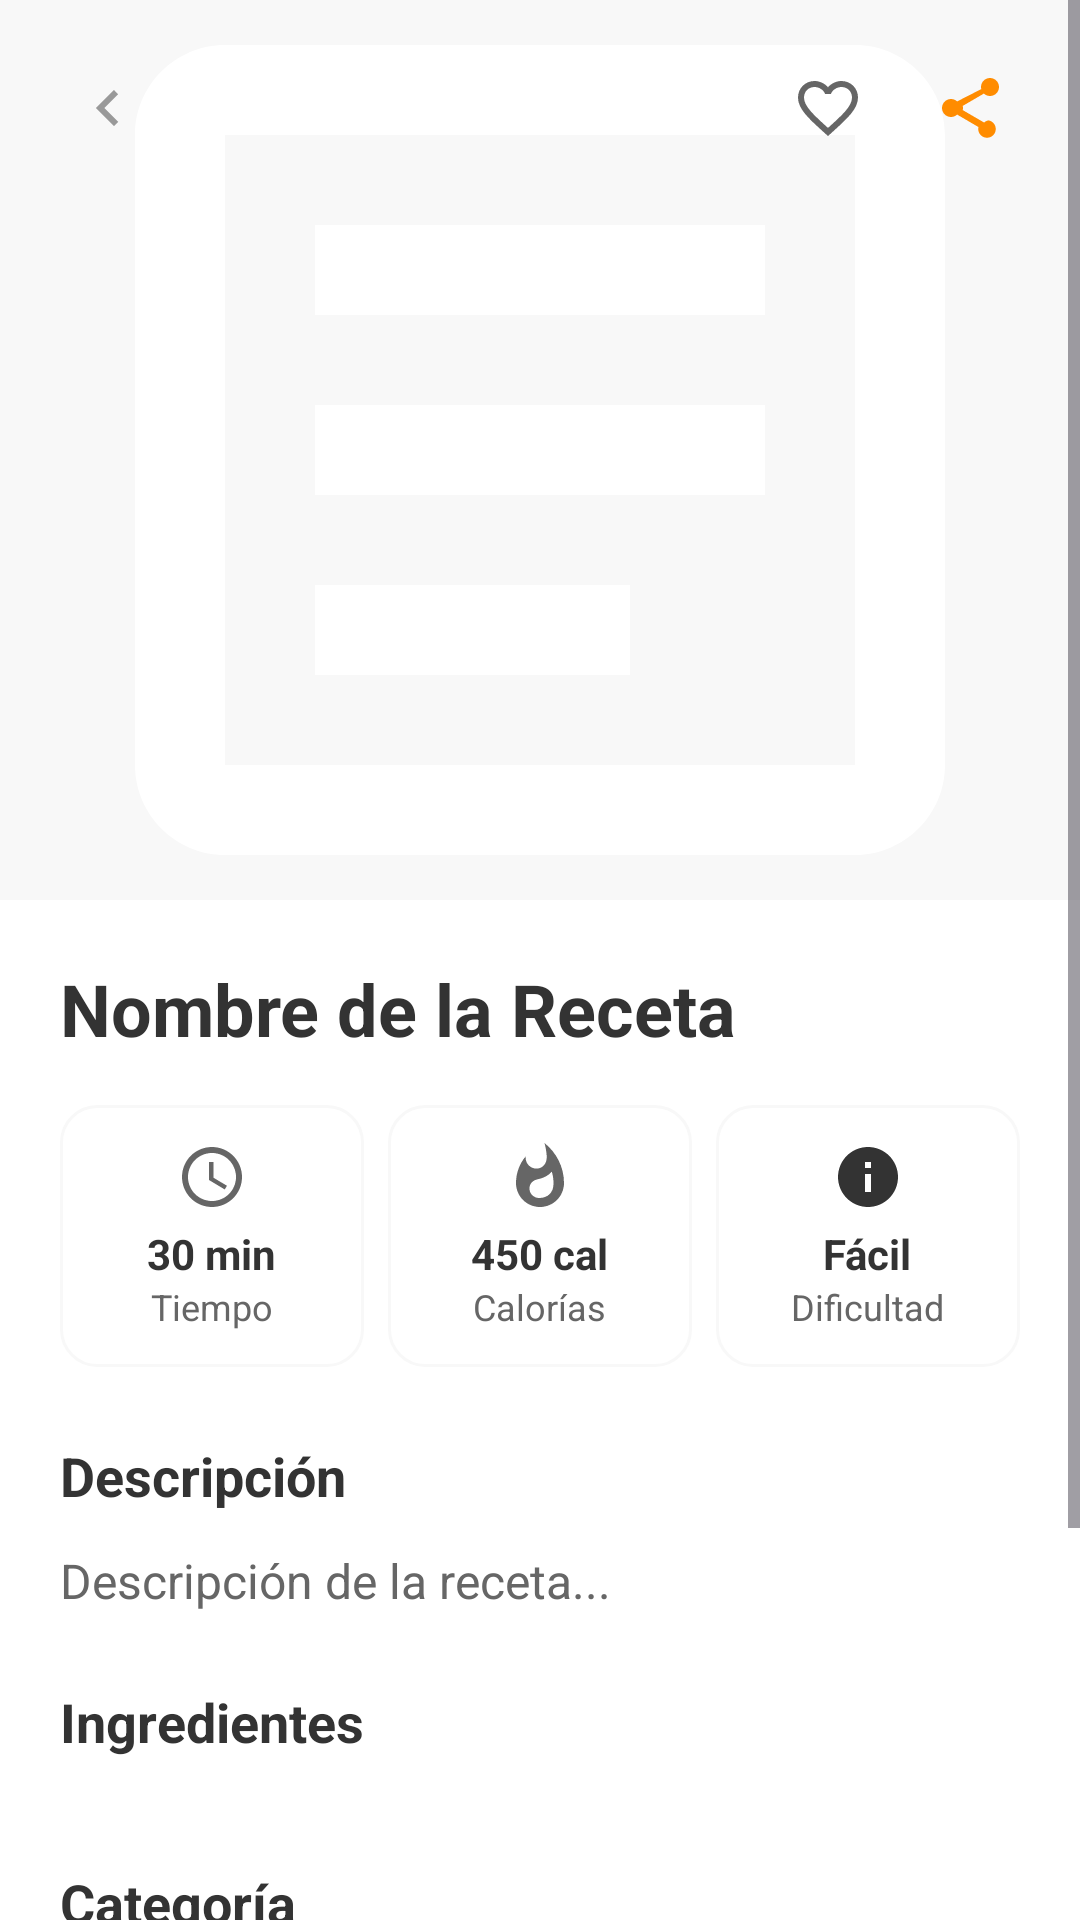

Icons on this 1080*1920 Android screen, each with its box as (x1, y1, x2, y2):
calories: (516, 1143, 564, 1207)
favorite: (798, 81, 858, 136)
info: (838, 1147, 898, 1207)
share: (942, 78, 999, 138)
time: (182, 1147, 242, 1207)
